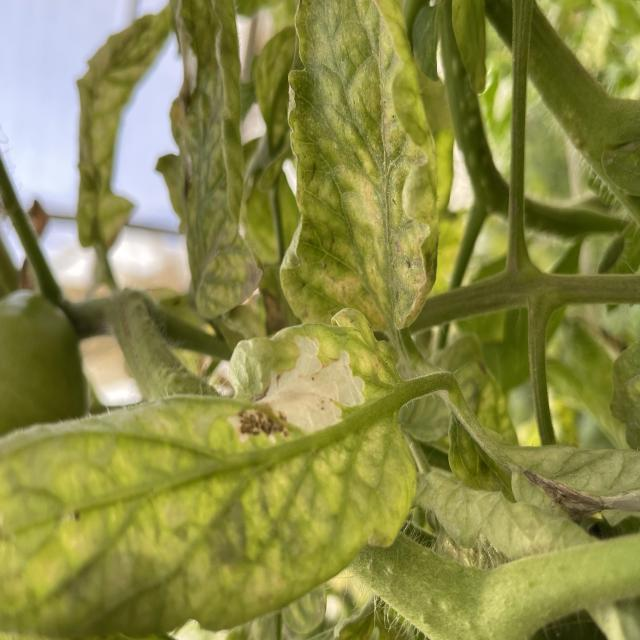Tuta absoluta: (254, 324, 381, 450)
